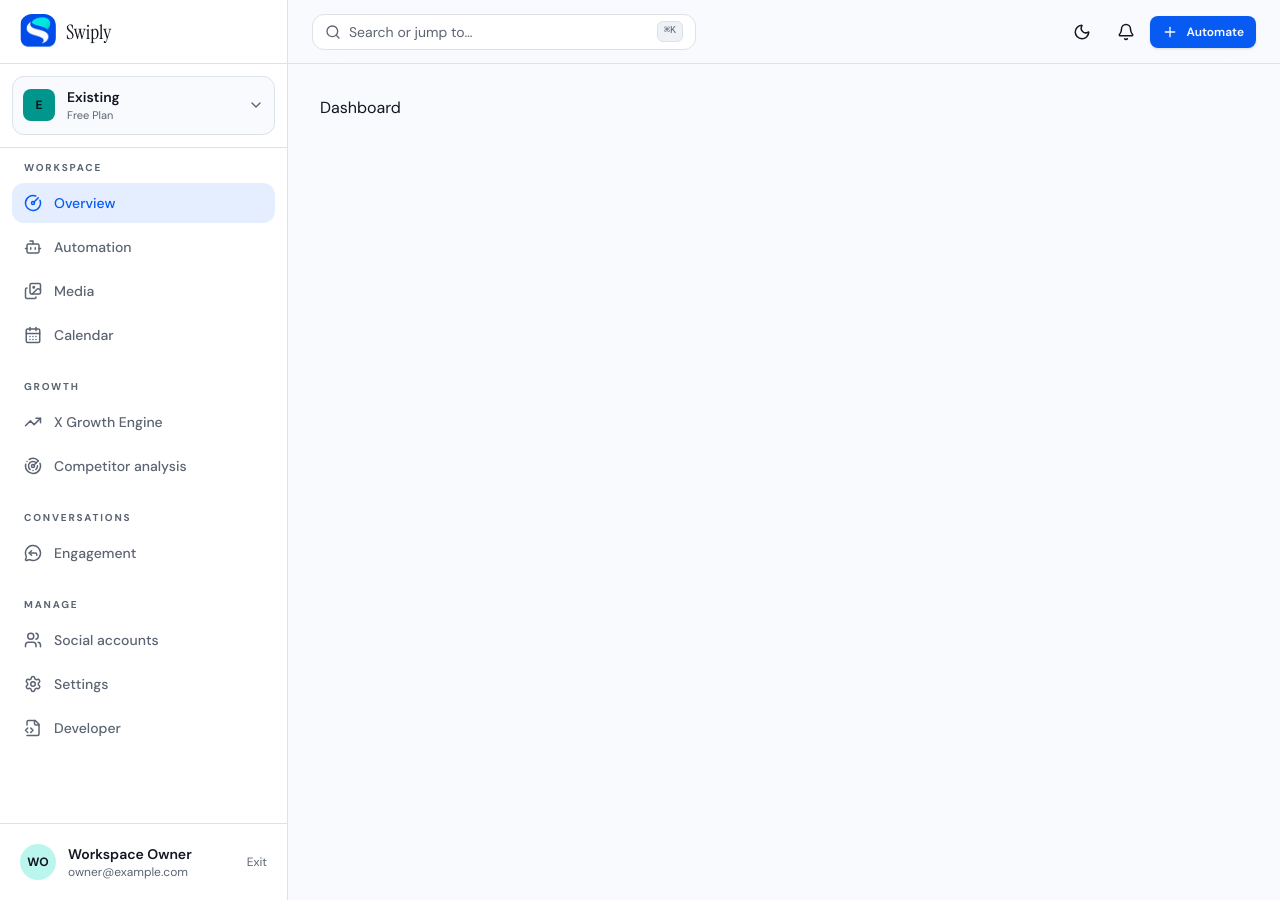
Test case: AppShell workspace switcher › opens the creation form from the New workspace button
Click the button "E Existing free plan": (39, 105) [12, 76, 275, 134]
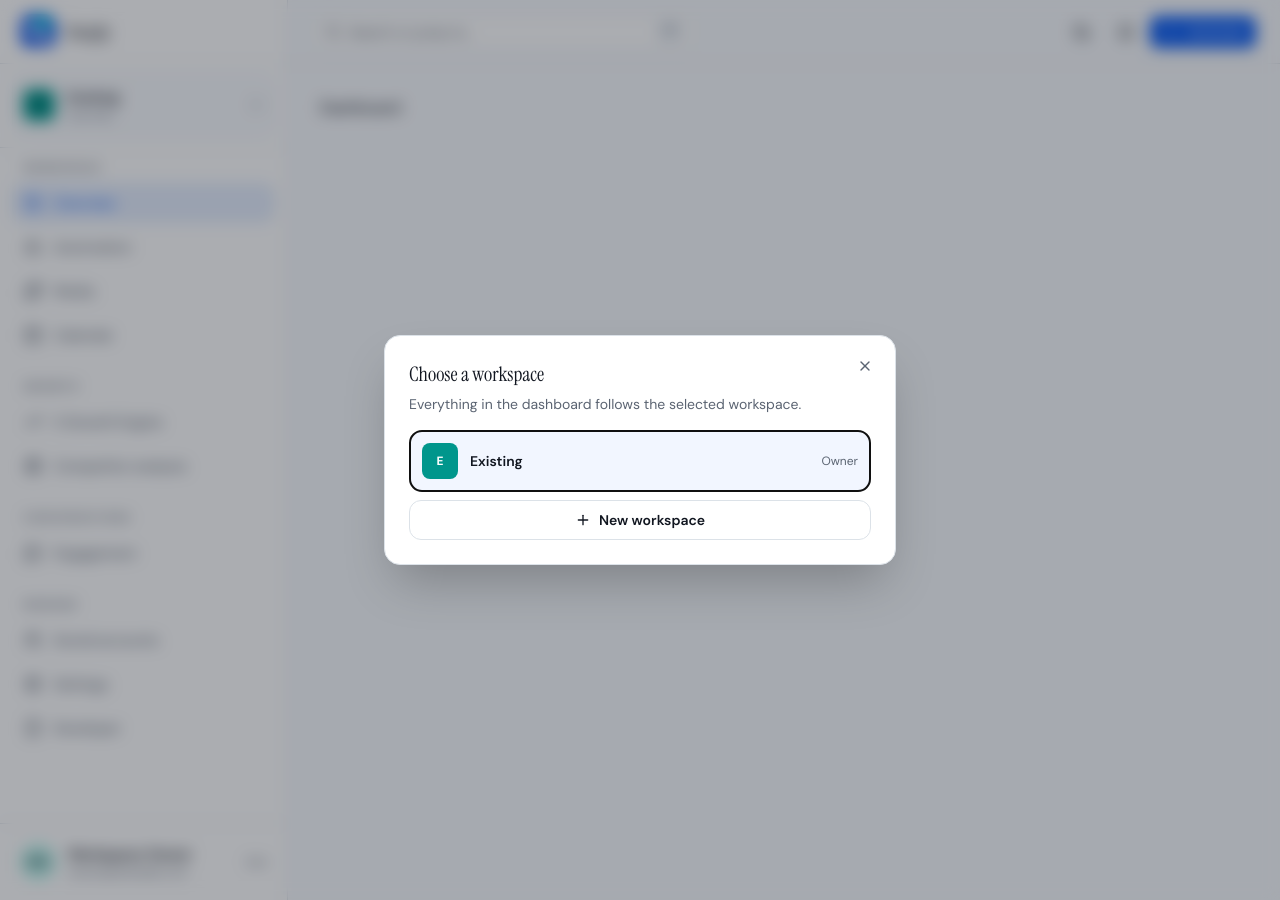
Click the button "New workspace": (640, 520) [409, 500, 871, 540]
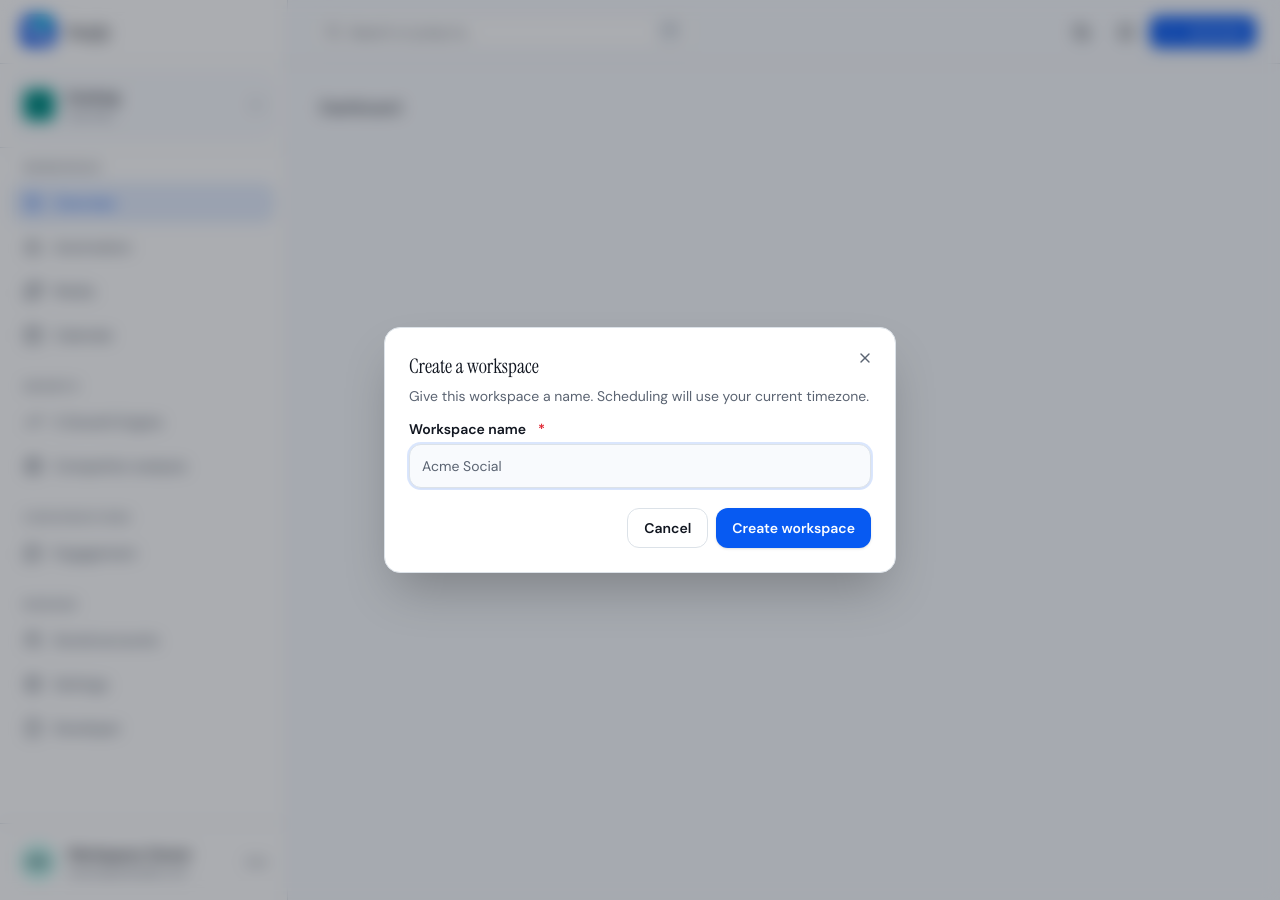
Now the heading "Create a workspace" is shown, box [409, 353, 539, 379]
